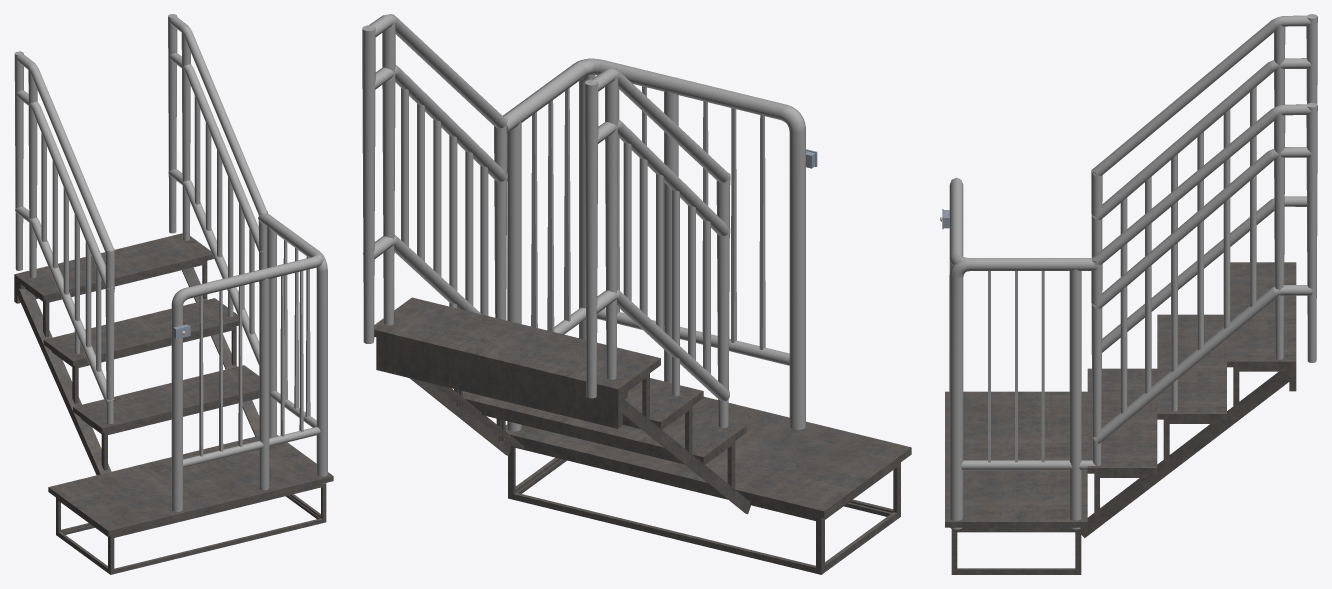
The model's file is small_stair.fbx.
The picture shows the model from 3 angles, left to right: view 1: azimuth 30°, elevation 25°; view 2: azimuth 150°, elevation 25°; view 3: azimuth 270°, elevation 25°; orthographic projection. The views are drawn at different scales.
Parts seen in each view (by area): view 1: small_stair; view 2: small_stair; view 3: small_stair.
Part boxes in pixels (x1,y1,x2,y2): small_stair: (14, 14, 333, 574); small_stair: (362, 14, 911, 574); small_stair: (940, 14, 1317, 574).
Bounding box in the file's own units: 147 × 247 × 180.
